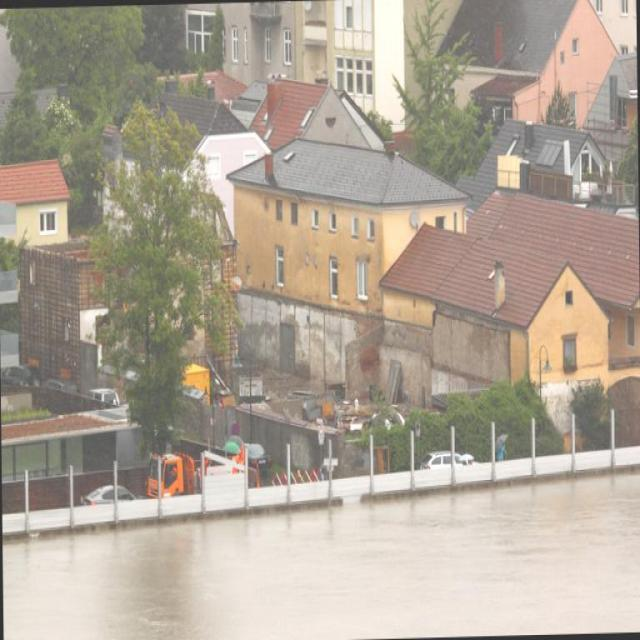flood: (2, 456, 639, 639)
